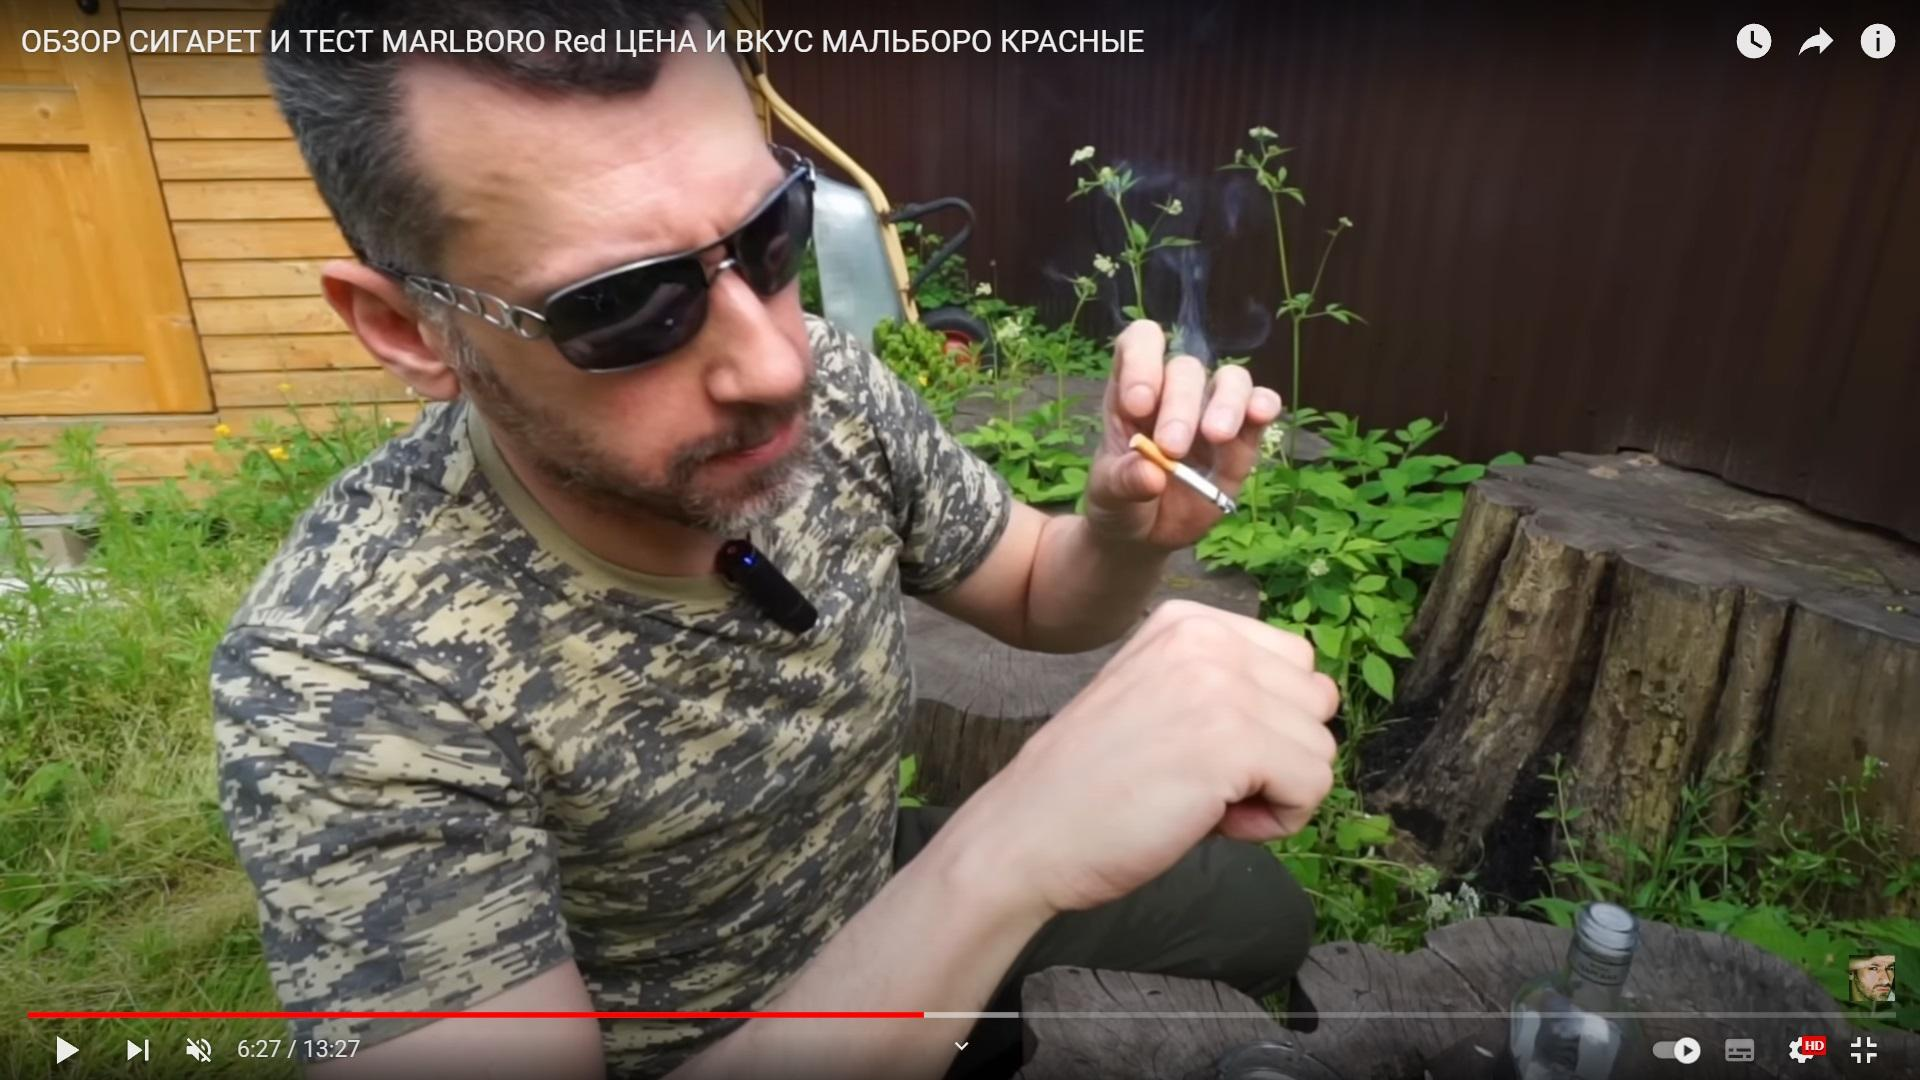cigarette: (1129, 435, 1237, 514)
